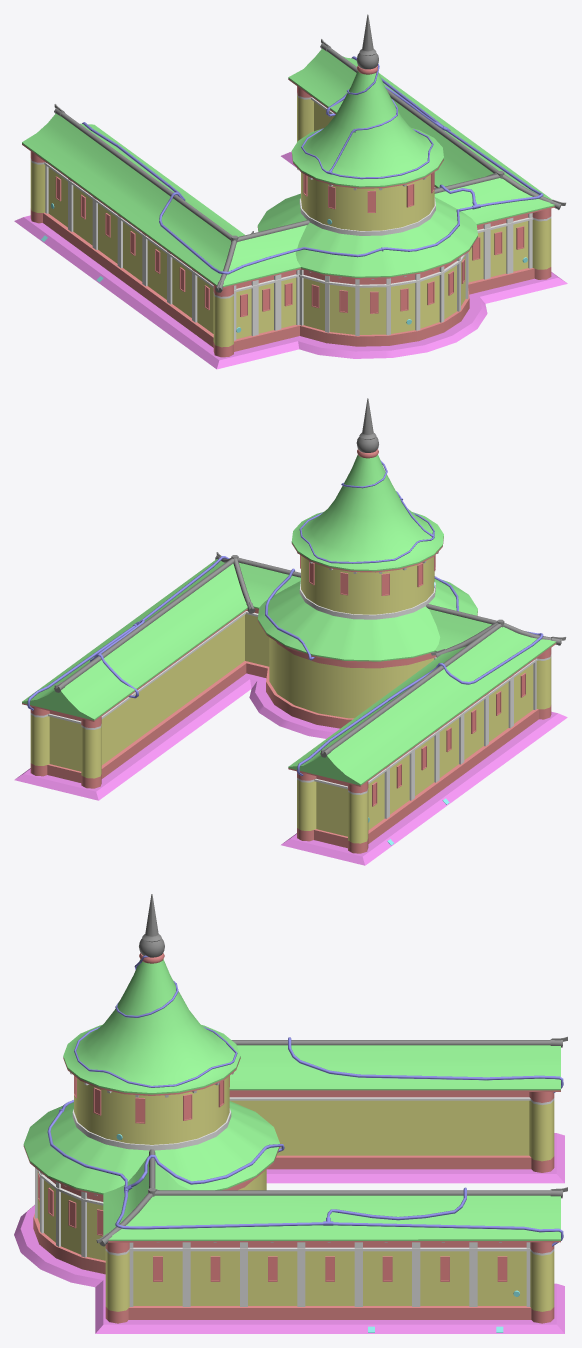
The model's file is SM_ENV_LKNVLD_Building_B.gltf.
3 views of the same model, one above another, from view 1: azimuth 30°, elevation 25°; view 2: azimuth 150°, elevation 25°; view 3: azimuth 270°, elevation 25° (orthographic). The views are drawn at different scales.
Visible parts, largest first — view 1: SM_ENV_LKNVLD_Building_B; view 2: SM_ENV_LKNVLD_Building_B; view 3: SM_ENV_LKNVLD_Building_B.
Boxes of the visible parts, bbox=[...] form: SM_ENV_LKNVLD_Building_B: bbox=[14, 14, 567, 369]; SM_ENV_LKNVLD_Building_B: bbox=[14, 398, 567, 865]; SM_ENV_LKNVLD_Building_B: bbox=[14, 894, 567, 1333].
Size of the model in its own units: 29 by 23.2 by 34.21.
